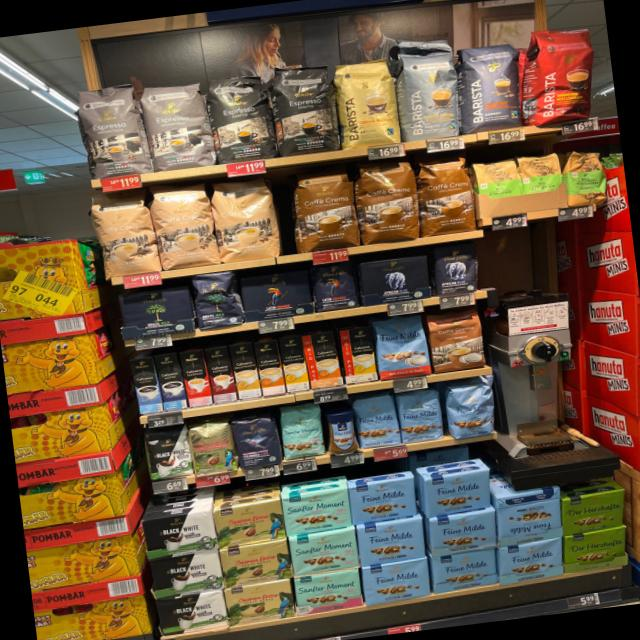Barista CB: (332, 55, 402, 151)
Barista CC: (392, 46, 464, 142)
Barista Espresso: (457, 40, 524, 134)
Barista Kolumbien: (528, 24, 601, 125)
CC Mild: (90, 189, 162, 280), (209, 175, 283, 262), (149, 182, 220, 270)
CC Vollmundig 36 Pads: (353, 156, 423, 246), (290, 168, 360, 252), (416, 154, 478, 236)
Espresso Aromatisch: (73, 81, 152, 180), (141, 80, 216, 172)
Espresso Kraftig: (266, 60, 342, 158), (204, 72, 276, 164)
